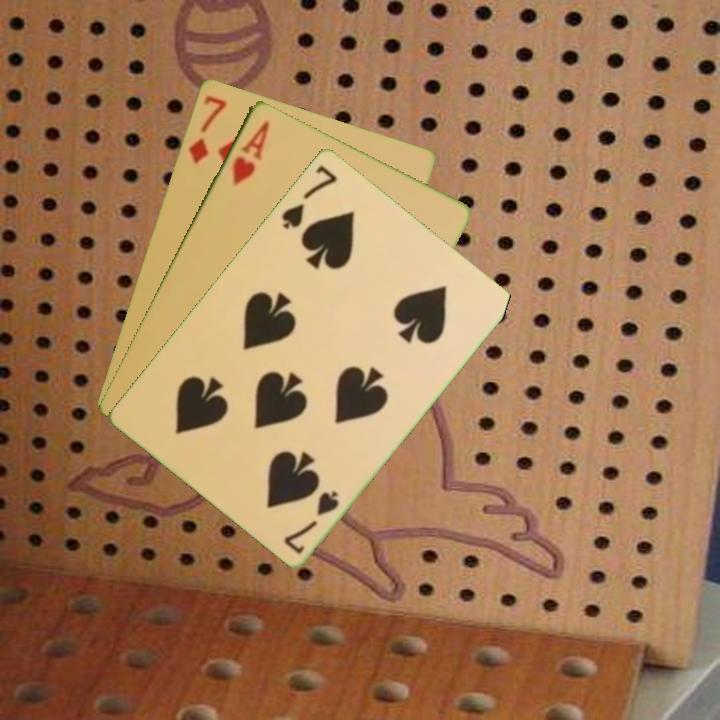7d: (184, 91, 230, 167)
7s: (277, 160, 341, 232), (280, 486, 342, 557)
Ah: (228, 116, 272, 188)
